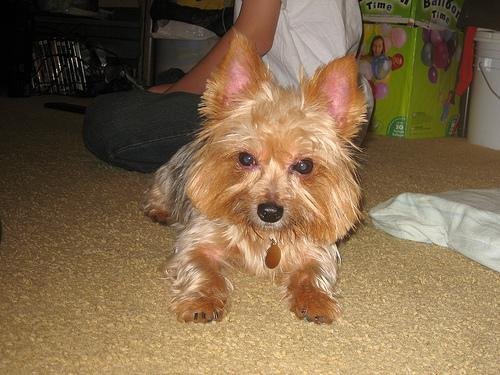dog-yorkshire_terrier: (207, 31, 355, 230)
